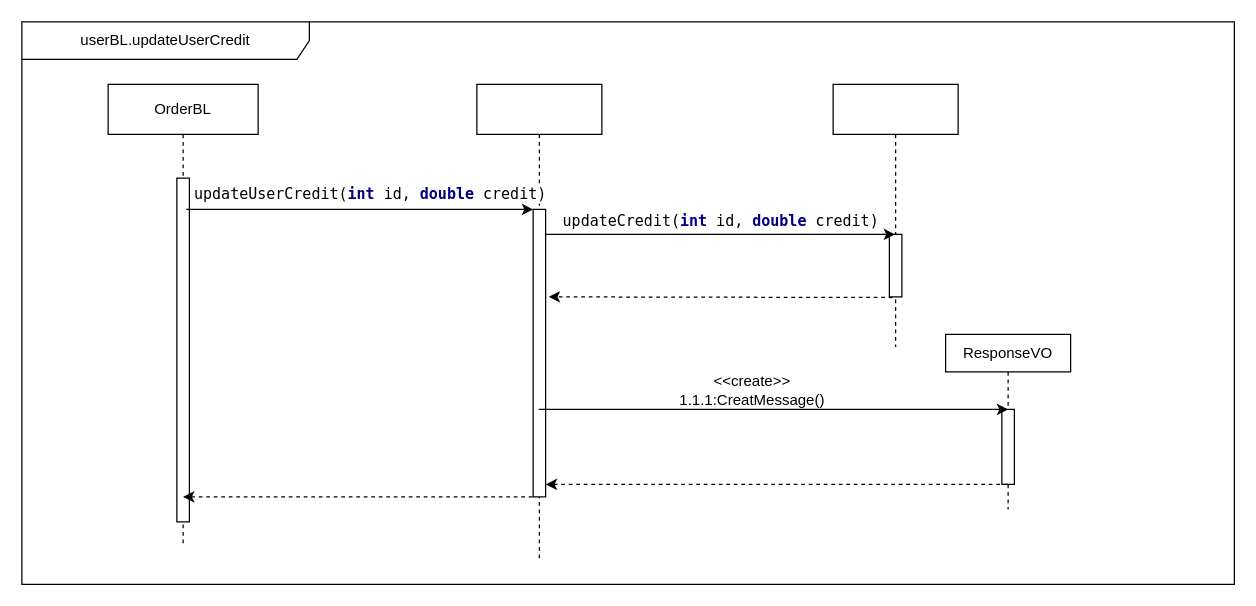
The diagram is 1256 pixels wide and 606 high, and some of its shapes have lost their labels. The shapes that lost their labels are listed below. From the top down, each one's box as (x1, y1, x2, y2) in pixels, then its label:
(832, 83, 958, 347): AccountMapper
(476, 83, 602, 559): userBL
